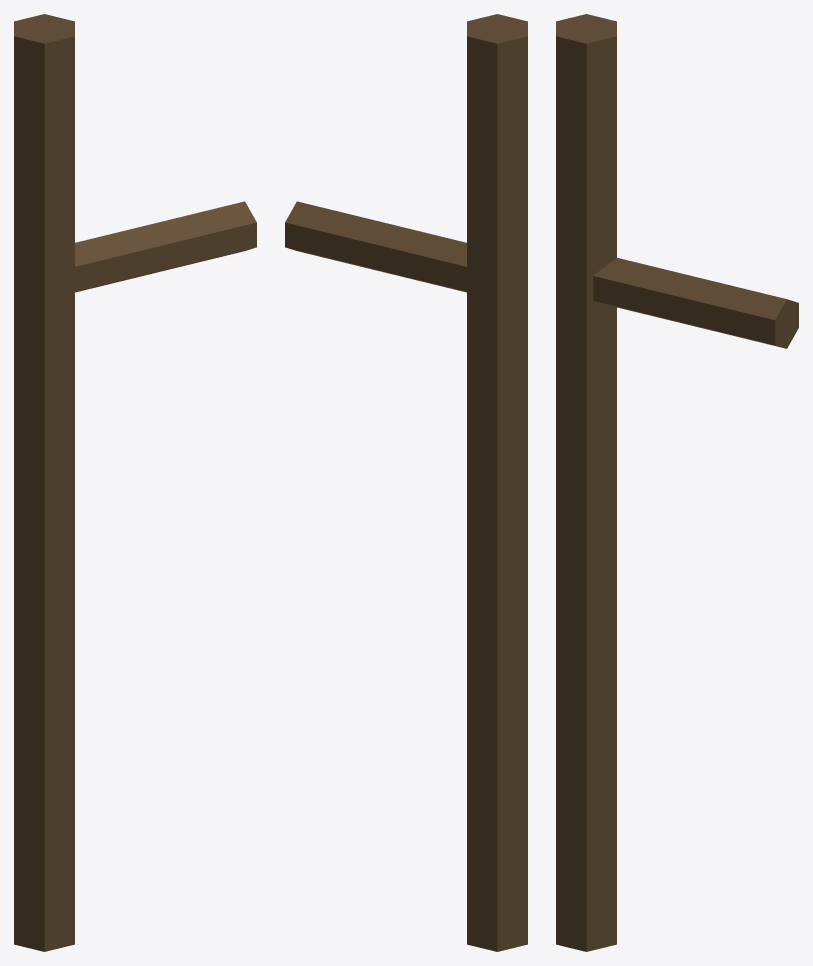
Rendered from Asian_Prop_Weapon_Tonfa_01.FBX.
3 views of the same model, side by side, from view 1: azimuth 30°, elevation 25°; view 2: azimuth 150°, elevation 25°; view 3: azimuth 330°, elevation 25° (orthographic).
Visible parts, largest first — view 1: Asian_Prop_Weapon_Tonfa_01; view 2: Asian_Prop_Weapon_Tonfa_01; view 3: Asian_Prop_Weapon_Tonfa_01.
Boxes of the visible parts, box(x1,y1,x2,y2) form: Asian_Prop_Weapon_Tonfa_01: box(14, 14, 256, 951); Asian_Prop_Weapon_Tonfa_01: box(285, 14, 527, 951); Asian_Prop_Weapon_Tonfa_01: box(556, 14, 798, 951).
Size of the model in its own units: 241 by 905 by 55.06.
